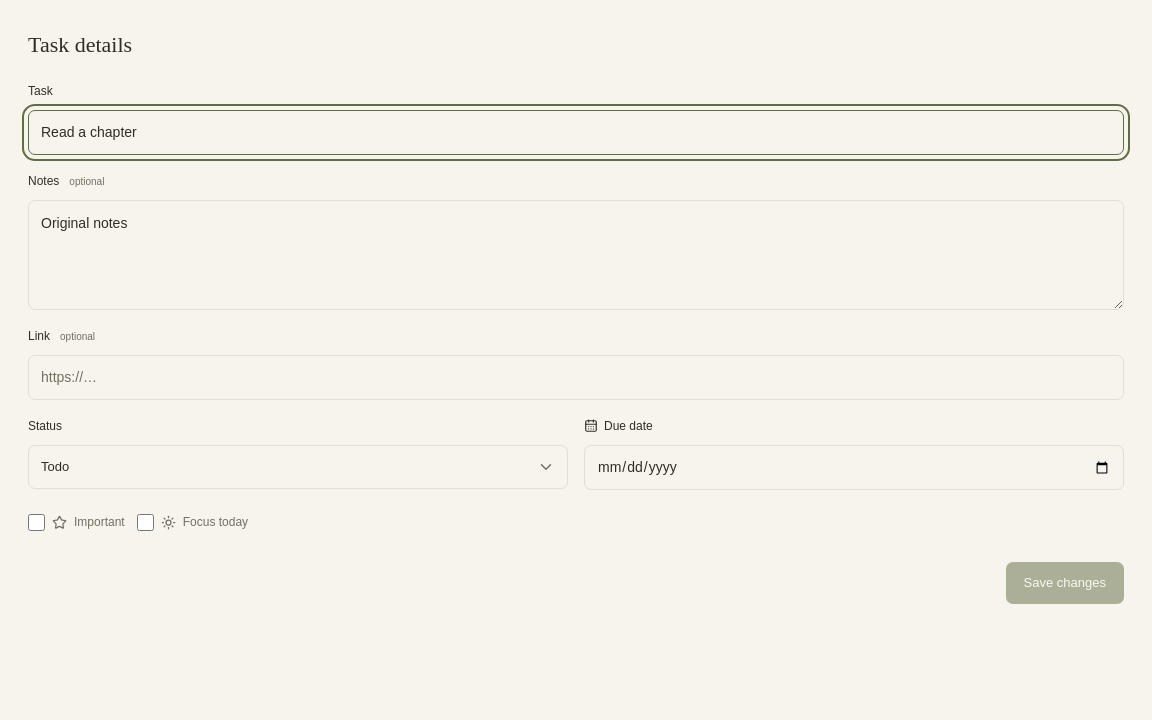
Test: saved task links › preserves an invalid draft for correction without saving it
Type "javascript:alert(1)" into the field labelled "Link optional".
click(576, 378); type("javascript:alert(1)")  # box left=28, top=355, right=1124, bottom=400
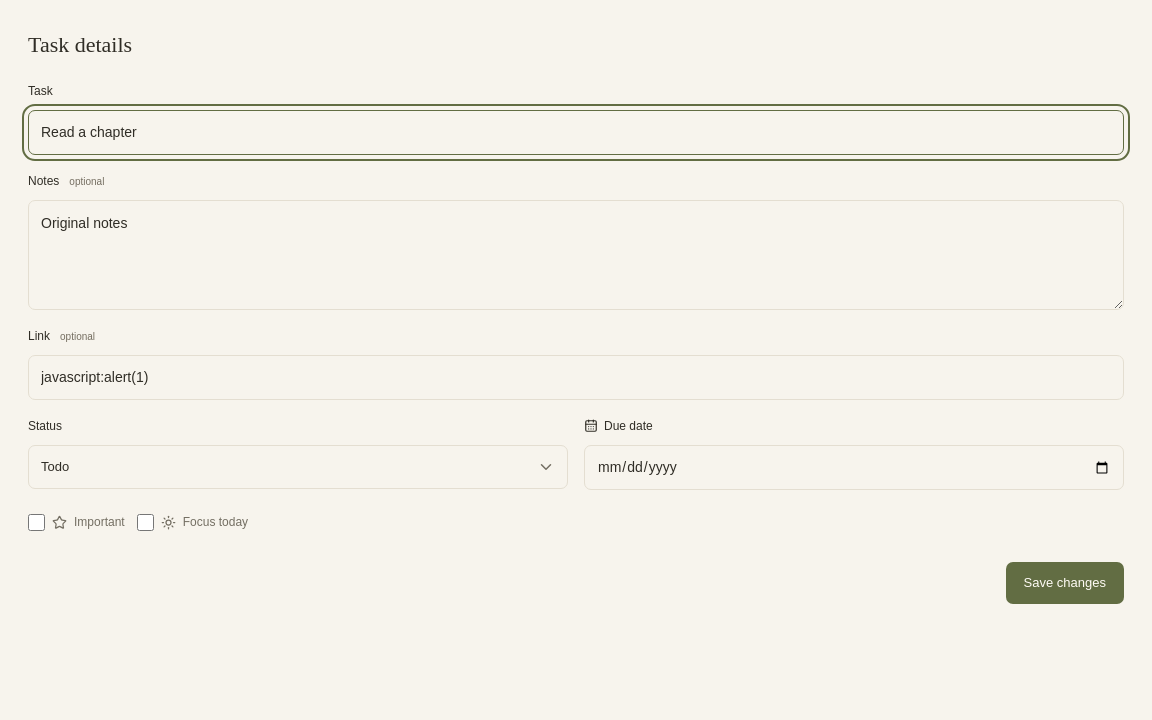
Submit the form named "Save changes"
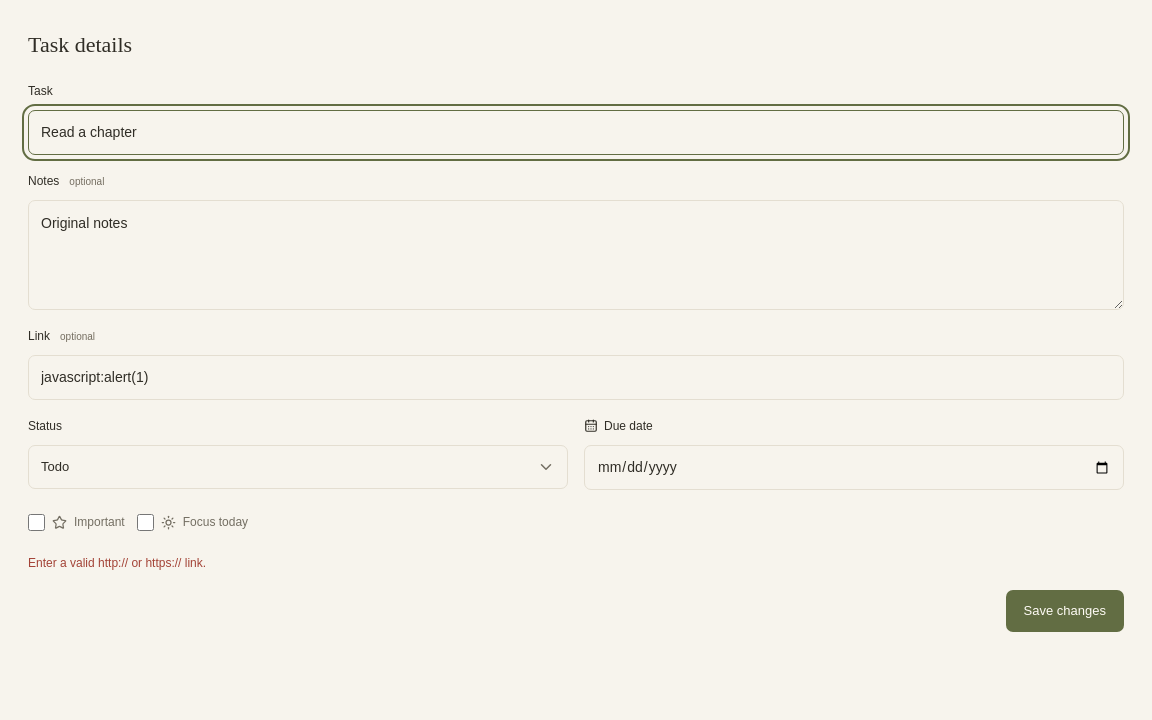
Result: the message shows "http:// or https://" at left=28, top=556, right=206, bottom=570
